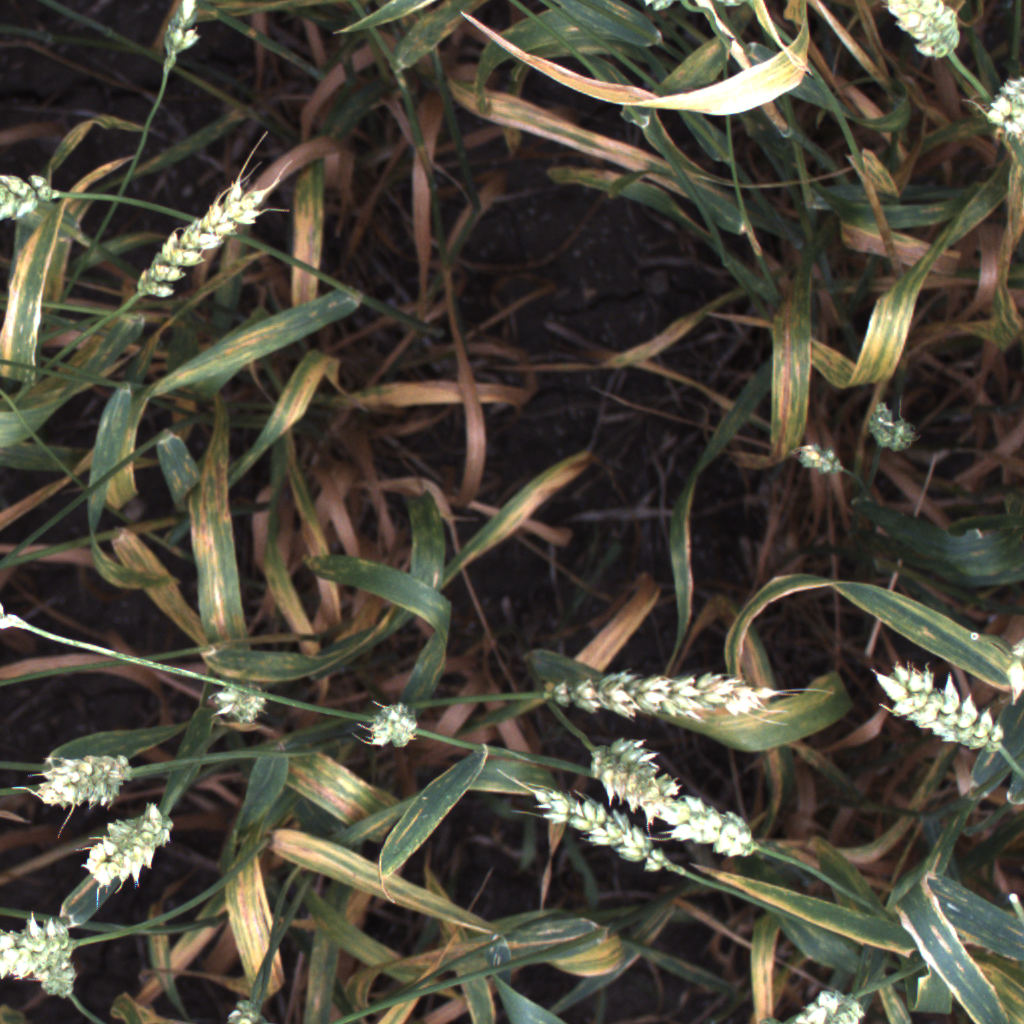wheat_head: (128, 168, 281, 301), (521, 777, 693, 880), (540, 664, 790, 728), (867, 658, 1008, 762), (571, 735, 697, 828), (80, 795, 181, 898), (657, 793, 775, 865), (16, 749, 139, 813), (0, 906, 85, 988), (874, 0, 969, 69), (203, 663, 274, 732), (24, 945, 100, 1008), (0, 161, 68, 231), (151, 0, 215, 72), (970, 69, 1024, 153), (782, 979, 881, 1024), (361, 698, 426, 754), (787, 429, 849, 484), (857, 404, 915, 455), (995, 638, 1024, 710)
